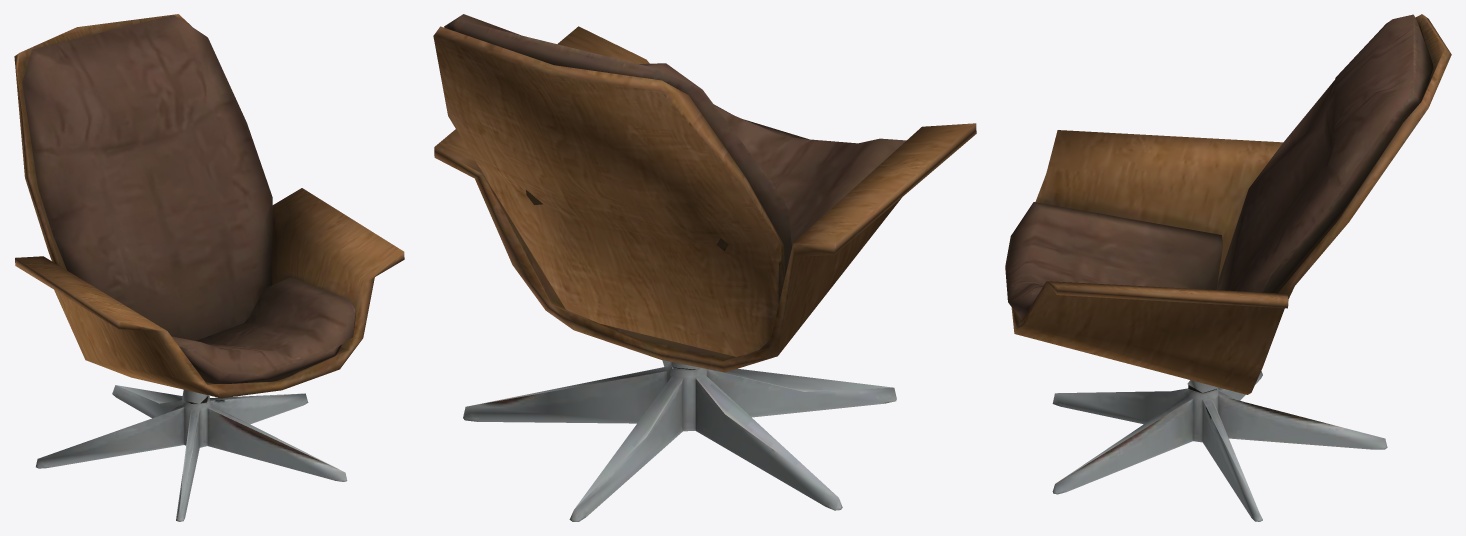
Rendered from mid_century_lounge_chair.glb.
3 views of the same model, side by side, from view 1: azimuth 30°, elevation 25°; view 2: azimuth 150°, elevation 25°; view 3: azimuth 270°, elevation 25° (orthographic). The views are drawn at different scales.
Parts seen in each view (by area): view 1: mid_century_lounge_chair; view 2: mid_century_lounge_chair; view 3: mid_century_lounge_chair.
Part boxes in pixels (box(x1,y1,x2,y2)): mid_century_lounge_chair: box(14, 14, 404, 521); mid_century_lounge_chair: box(433, 14, 976, 521); mid_century_lounge_chair: box(1005, 14, 1451, 521).
Size of the model in its own units: 0.9876 by 1.16 by 1.19.
1 material, 1 textured.
